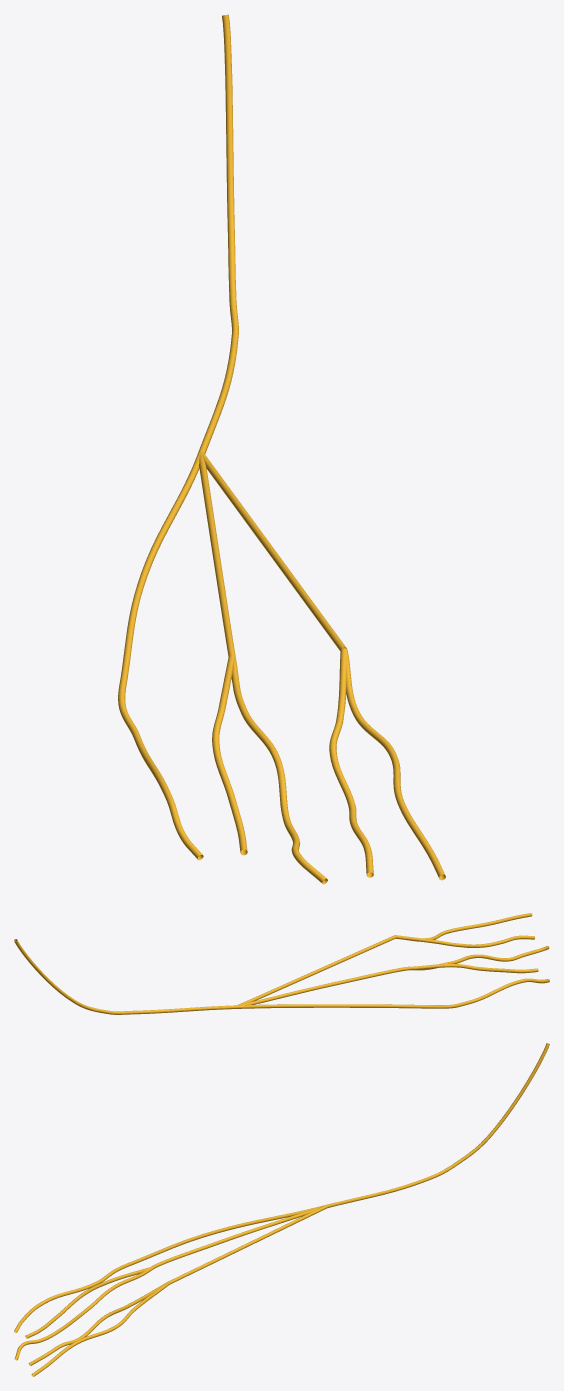
Rendered from nervoso-lateral-plantar-nerve-r.glb.
3 views of the same model, one above another, from view 1: azimuth 30°, elevation 25°; view 2: azimuth 150°, elevation 25°; view 3: azimuth 330°, elevation 25° (orthographic). The views are drawn at different scales.
Parts seen in each view (by area): view 1: Proper plantar digital branches of lateral plantar nerve.r, Common plantar digital branches of lateral plantar nerve.r, Lateral plantar nerve.r; view 2: Proper plantar digital branches of lateral plantar nerve.r, Common plantar digital branches of lateral plantar nerve.r, Lateral plantar nerve.r; view 3: Proper plantar digital branches of lateral plantar nerve.r, Common plantar digital branches of lateral plantar nerve.r, Lateral plantar nerve.r.
Boxes of the visible parts, box(x1,y1,x2,y2) form: Proper plantar digital branches of lateral plantar nerve.r: box(118, 648, 445, 884); Common plantar digital branches of lateral plantar nerve.r: box(119, 452, 346, 686); Lateral plantar nerve.r: box(198, 14, 238, 453); Proper plantar digital branches of lateral plantar nerve.r: box(395, 913, 549, 1008); Common plantar digital branches of lateral plantar nerve.r: box(237, 935, 435, 1008); Lateral plantar nerve.r: box(14, 939, 237, 1014); Proper plantar digital branches of lateral plantar nerve.r: box(14, 1263, 169, 1376); Common plantar digital branches of lateral plantar nerve.r: box(128, 1205, 327, 1284); Lateral plantar nerve.r: box(326, 1043, 549, 1207).
Size of the model in its own units: 0.0888 by 0.0511 by 0.1741.
